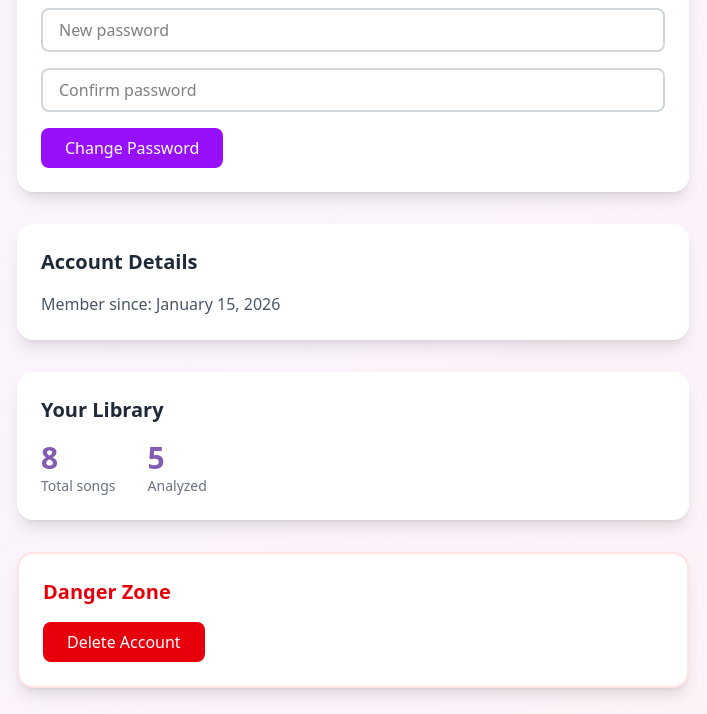
Test: DashboardPage › requires password confirmation before account deletion
This screenshot has width=707, height=714.
(page scrolled)
What coordinates should you click on to do the following:
click the button "Delete Account"
I would click on:
 (124, 642)
Its box is x1=43 y1=622 x2=205 y2=662.
(page scrolled)
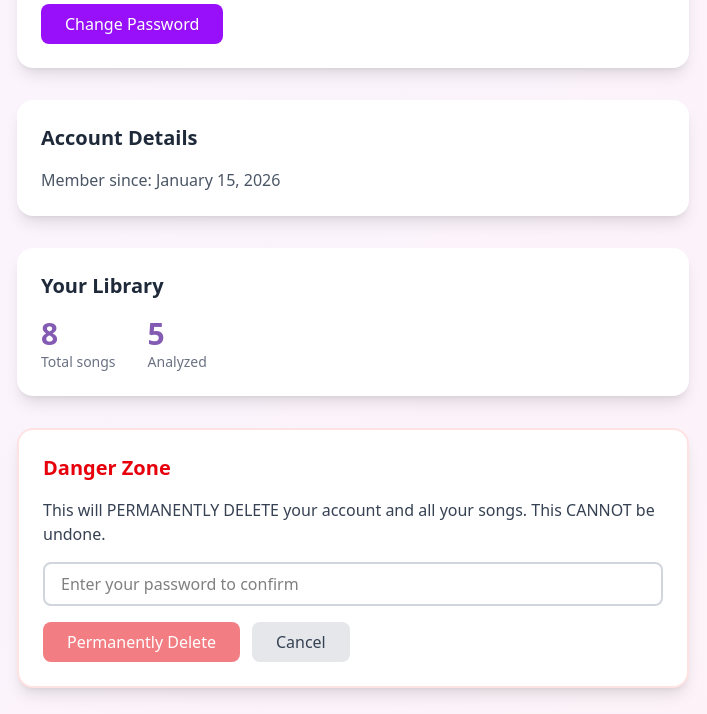
Check: the password field with placeholder "Enter your password to confirm" is shown, box x1=43 y1=562 x2=663 y2=606
Check: the button "Permanently Delete" is disabled, box x1=43 y1=622 x2=240 y2=662
